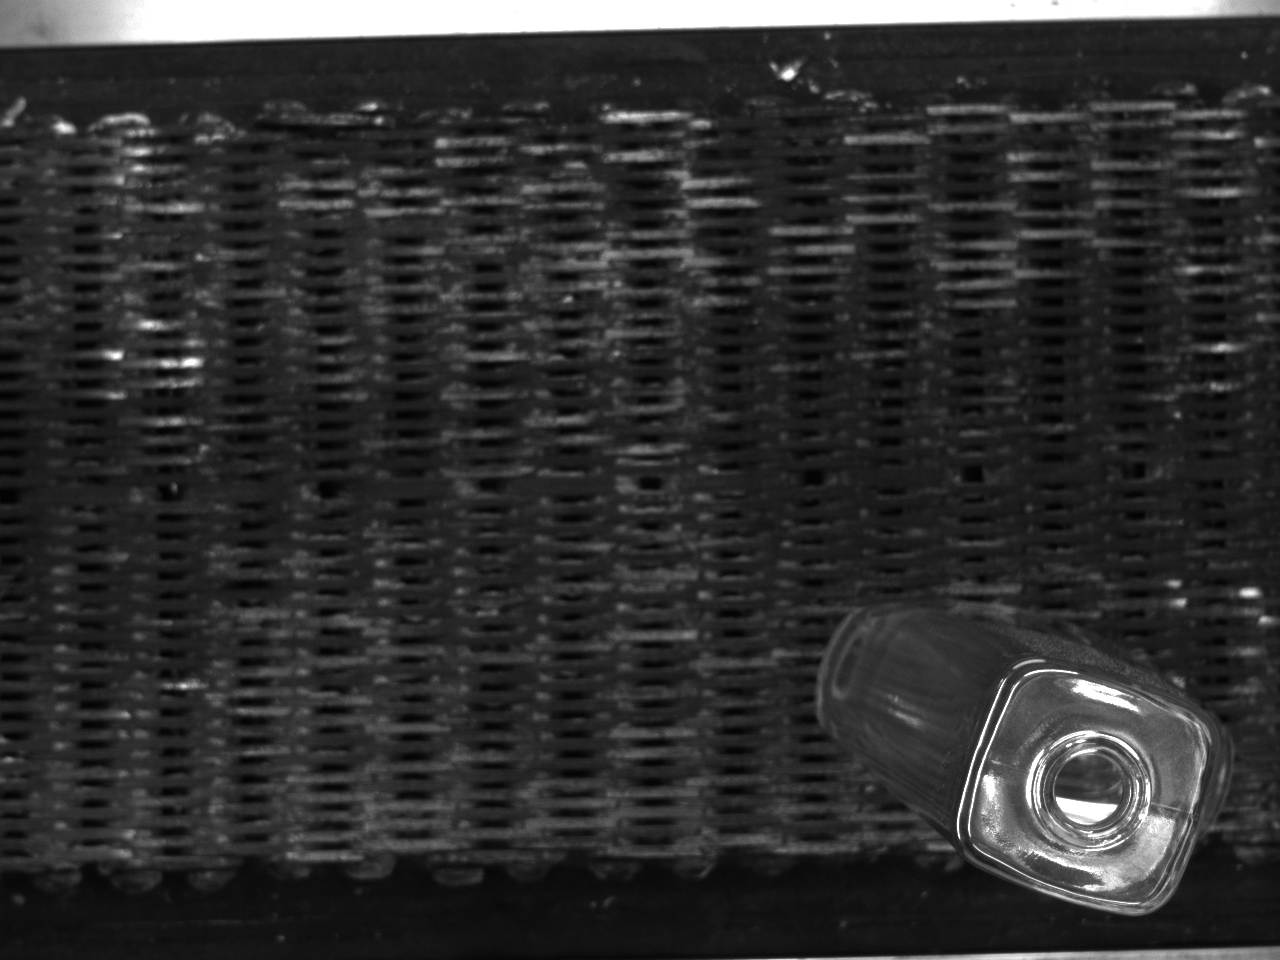bottleneck: (1033, 731, 1152, 851)
